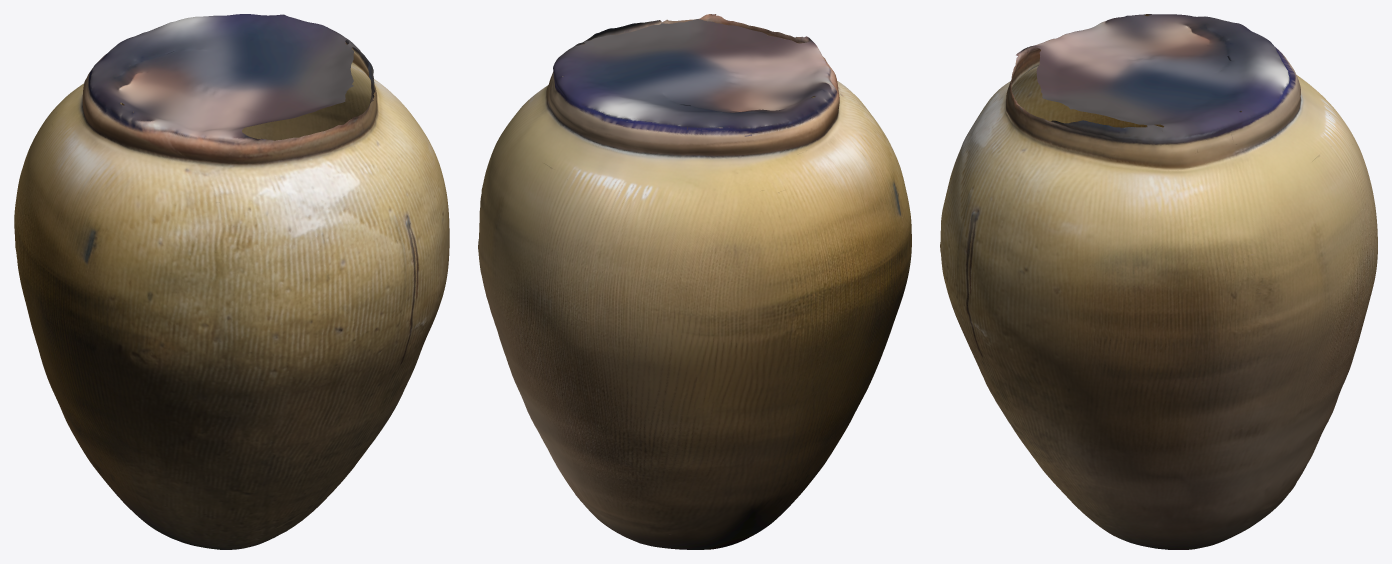
File: pot.glb
3 views of the same model, side by side, from view 1: azimuth 30°, elevation 25°; view 2: azimuth 150°, elevation 25°; view 3: azimuth 270°, elevation 25° (orthographic).
Parts seen in each view (by area): view 1: Retopo_model; view 2: Retopo_model; view 3: Retopo_model.
Boxes of the visible parts, <box> form: Retopo_model: <box>14,14,449,549</box>; Retopo_model: <box>478,14,911,549</box>; Retopo_model: <box>940,14,1377,549</box>.
Size of the model in its own units: 0.7097 by 0.8479 by 0.7158.
Materials: 1 (1 with a texture image).
